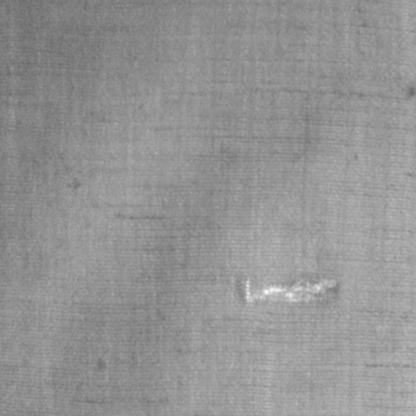hole: (241, 274, 342, 314)
